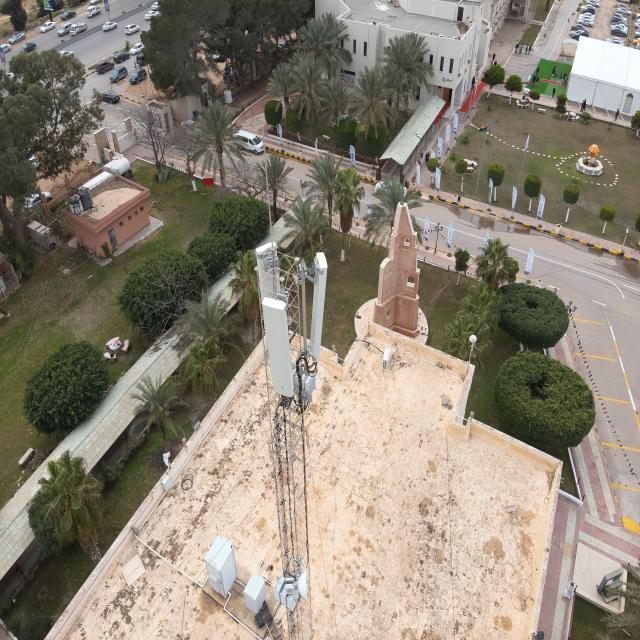antenna: (262, 297, 297, 399), (310, 250, 329, 362), (255, 242, 283, 297)
lighnig-rad: (260, 124, 274, 250)
microware-dish: (285, 568, 309, 605)
power-box: (272, 574, 299, 612)
radio-unit: (292, 362, 321, 395)
